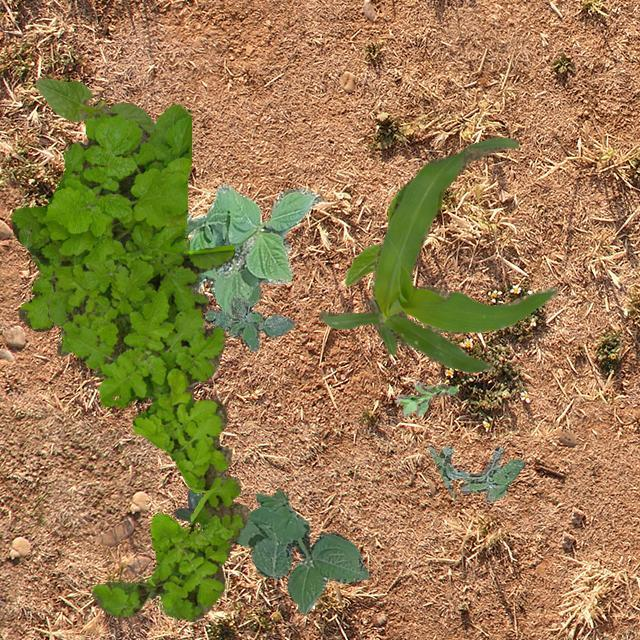crop: (317, 138, 558, 372), (183, 182, 321, 318), (34, 76, 154, 132), (344, 190, 398, 284)
weed: (45, 244, 248, 620), (9, 102, 190, 356), (232, 488, 370, 614), (203, 280, 294, 350), (426, 444, 524, 500), (394, 380, 456, 416), (172, 488, 210, 538)
